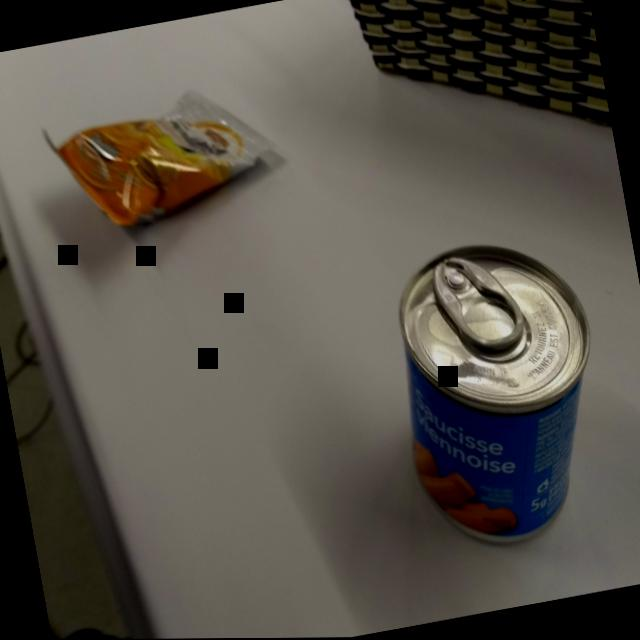crackers: (36, 66, 296, 249)
sausages: (370, 220, 628, 566)
